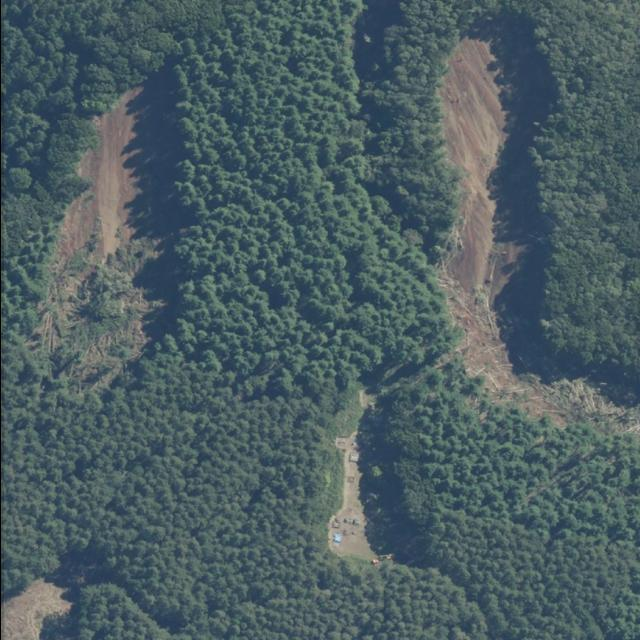landslide: (440, 36, 639, 432), (25, 64, 193, 389), (0, 579, 70, 640)
